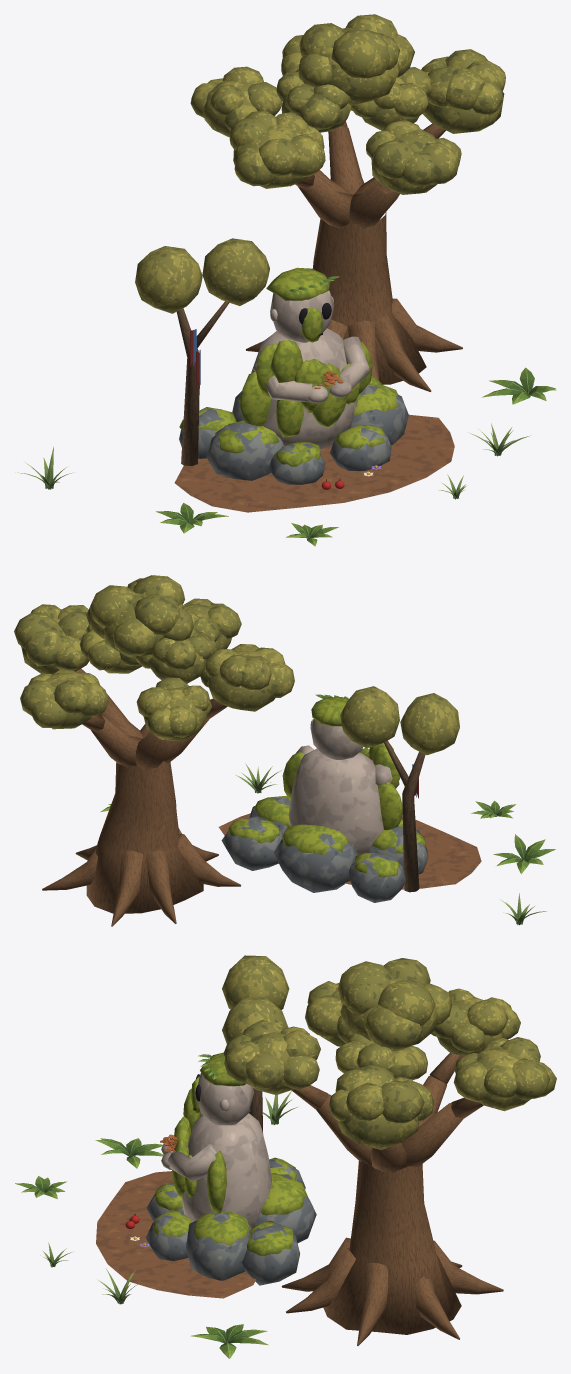
File: ev11_idol.glb
The picture shows the model from 3 angles, top to bottom: view 1: azimuth 30°, elevation 25°; view 2: azimuth 150°, elevation 25°; view 3: azimuth 270°, elevation 25°; orthographic projection. The views are drawn at different scales.
Parts seen in each view (by area): view 1: ev11_idol_tree_crown, ev11_idol_tree_trunk, ev11_idol_idol, ev11_idol_ground_details, ev11_idol_moss, ev11_idol_plants, ev11_idol_offerings; view 2: ev11_idol_tree_crown, ev11_idol_tree_trunk, ev11_idol_idol, ev11_idol_moss, ev11_idol_ground_details, ev11_idol_plants; view 3: ev11_idol_tree_crown, ev11_idol_tree_trunk, ev11_idol_idol, ev11_idol_ground_details, ev11_idol_plants, ev11_idol_moss.
Part boxes in pixels (bbox=[...]): ev11_idol_tree_crown: bbox=[135, 14, 505, 313]; ev11_idol_tree_trunk: bbox=[176, 121, 462, 465]; ev11_idol_idol: bbox=[179, 290, 408, 484]; ev11_idol_ground_details: bbox=[174, 414, 454, 512]; ev11_idol_moss: bbox=[239, 267, 372, 437]; ev11_idol_plants: bbox=[15, 367, 556, 546]; ev11_idol_offerings: bbox=[190, 329, 380, 489]; ev11_idol_tree_crown: bbox=[14, 575, 459, 754]; ev11_idol_tree_trunk: bbox=[42, 668, 425, 926]; ev11_idol_idol: bbox=[221, 719, 428, 902]; ev11_idol_moss: bbox=[282, 694, 402, 829]; ev11_idol_ground_details: bbox=[218, 813, 481, 889]; ev11_idol_plants: bbox=[100, 763, 555, 925]; ev11_idol_tree_crown: bbox=[222, 955, 556, 1149]; ev11_idol_tree_trunk: bbox=[249, 1052, 503, 1345]; ev11_idol_idol: bbox=[146, 1073, 316, 1285]; ev11_idol_ground_details: bbox=[96, 1171, 256, 1298]; ev11_idol_plants: bbox=[15, 1091, 297, 1358]; ev11_idol_moss: bbox=[172, 1052, 245, 1213].
Size of what is drawn, in the model's own units: 6.37 by 3.98 by 5.63.
18 materials, 18 textured.
